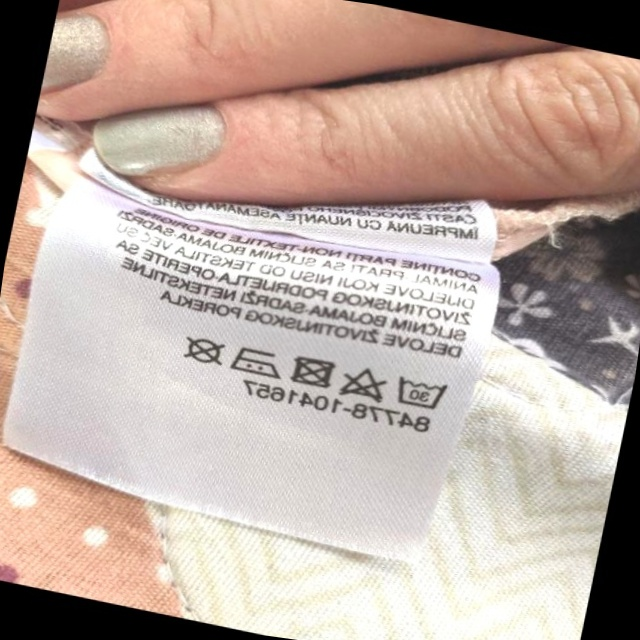30C: (388, 368, 451, 415)
DN_bleach: (338, 360, 390, 407)
DN_dry_clean: (178, 332, 229, 370)
DN_tumble_dry: (286, 351, 340, 395)
iron_medium: (225, 339, 286, 381)
